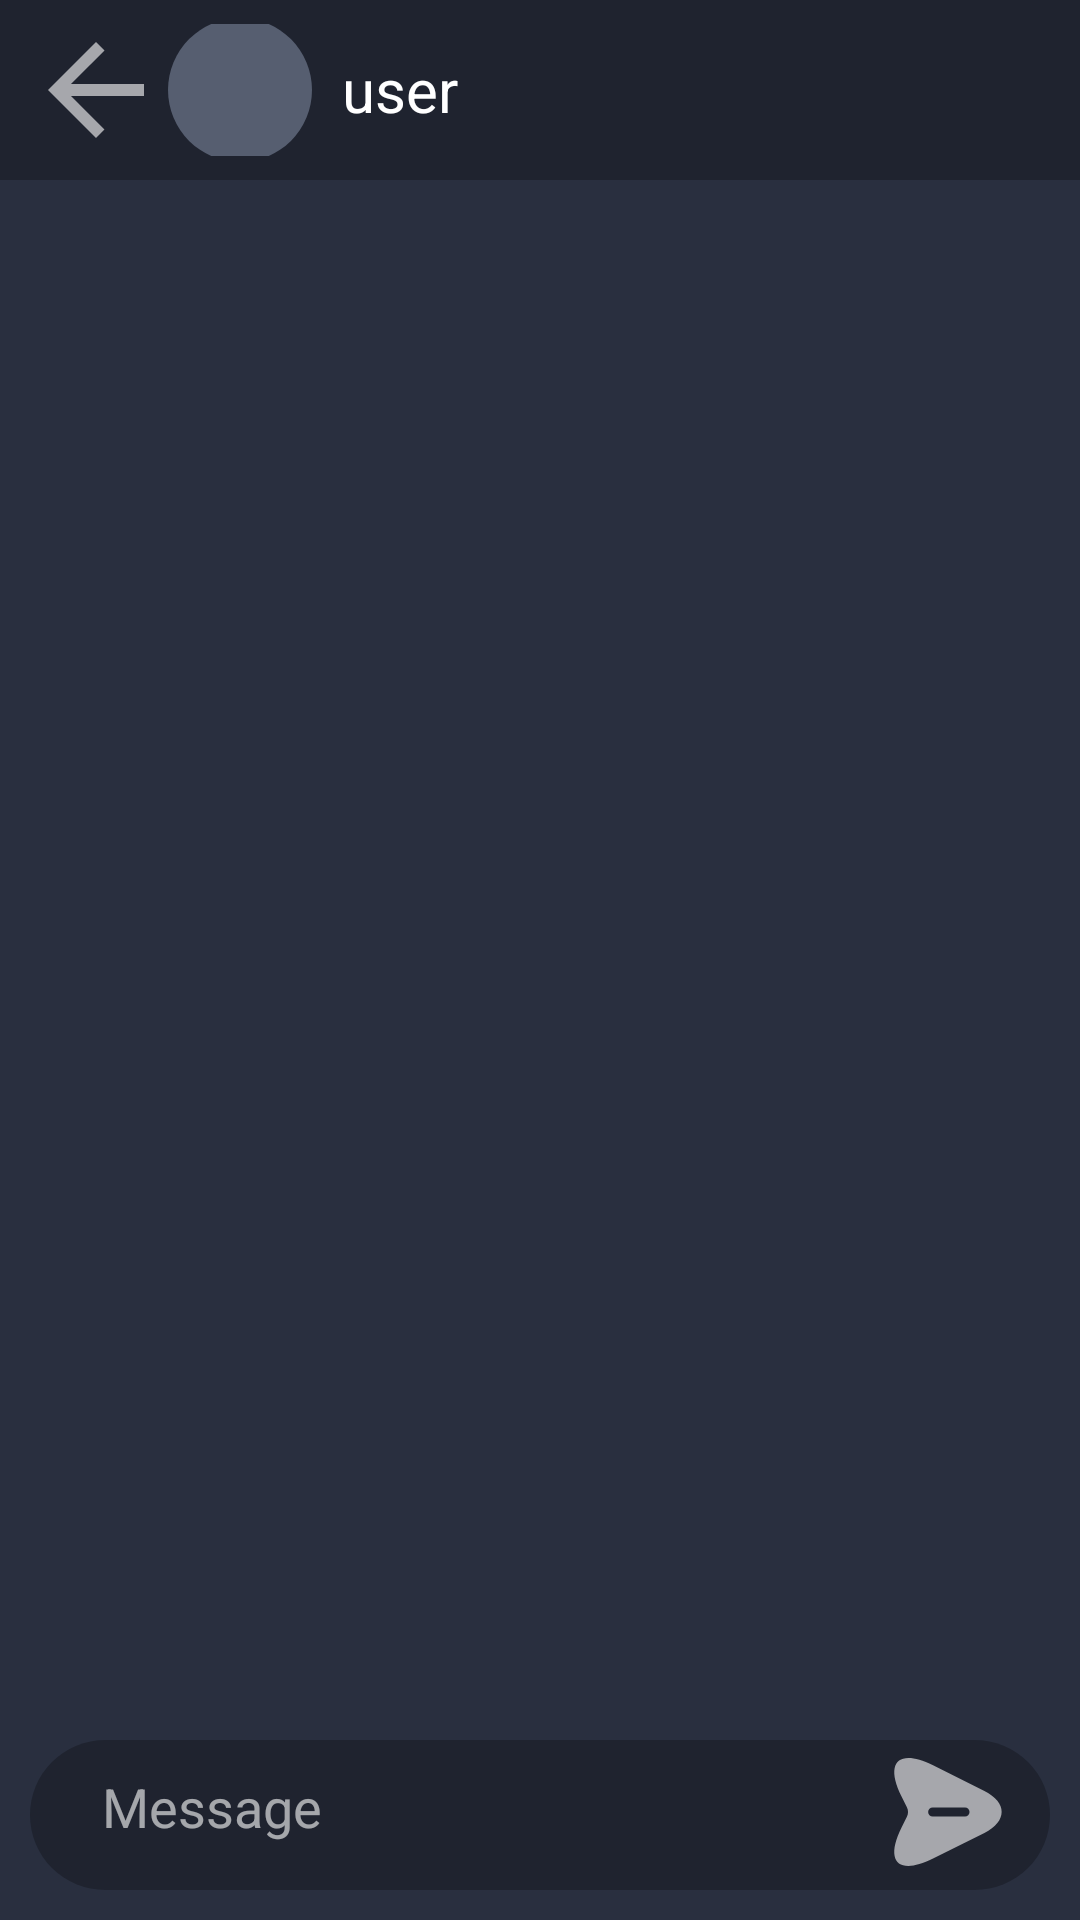

Named icons in this screenshot (1080*1920) and their bounding boxes, bbox=(x1, y1, x2, y2):
go back: bbox=(48, 42, 144, 138)
send: bbox=(894, 1758, 1002, 1866)
